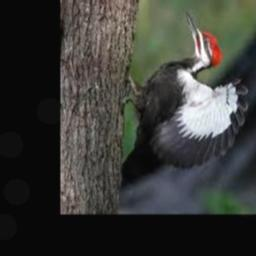Woodpecker: (123, 8, 248, 171)
